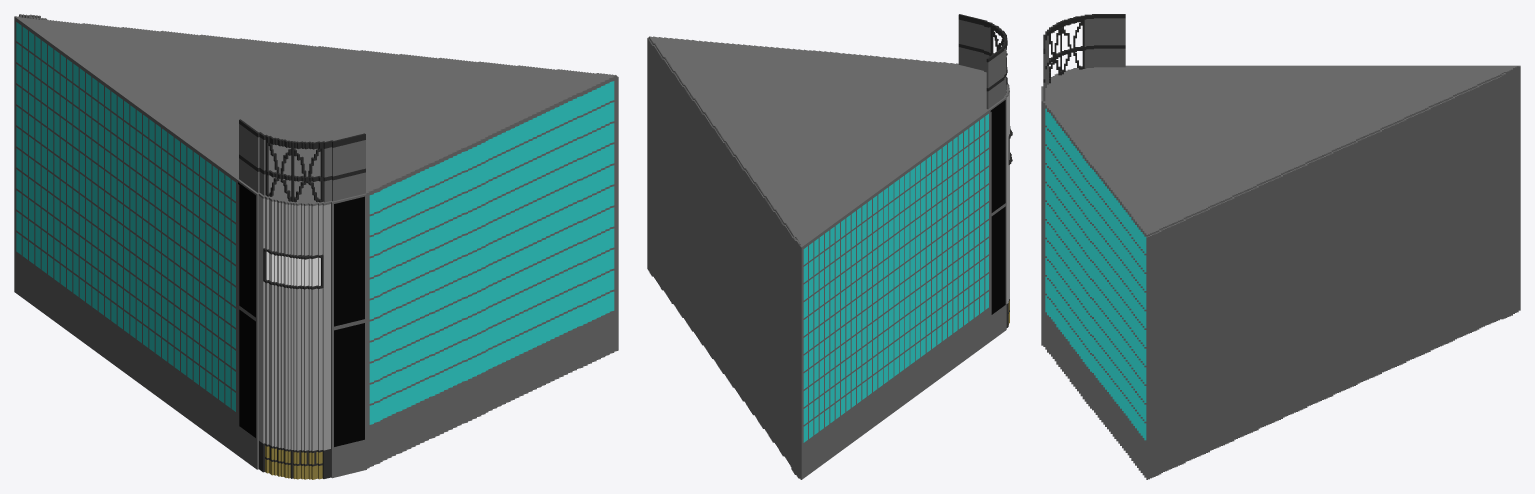
File: qfront_chido.obj
The picture shows the model from 3 angles, left to right: view 1: azimuth 30°, elevation 25°; view 2: azimuth 150°, elevation 25°; view 3: azimuth 270°, elevation 25°; orthographic projection. The views are drawn at different scales.
Size of the model in its own units: 21.5 by 17.5 by 25.6.
1 material, 1 textured.
